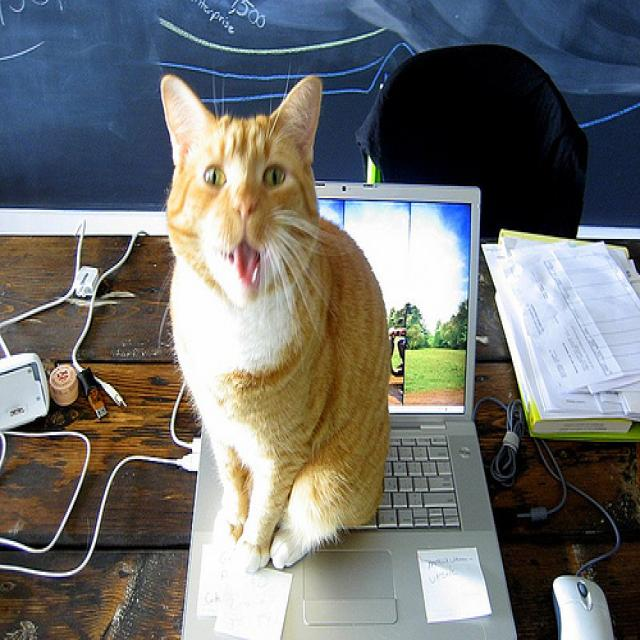cat: (159, 71, 393, 574)
